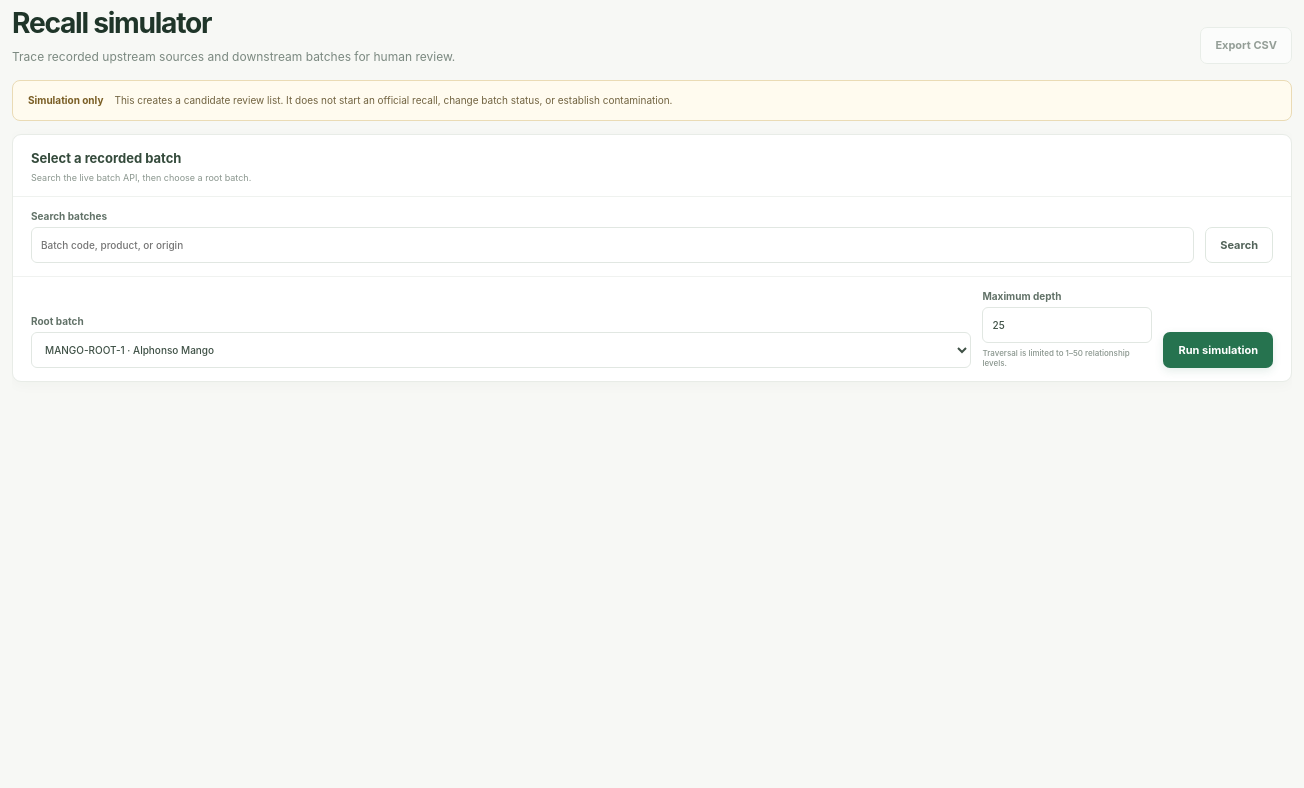
Test: RecallSimulatorDashboard › renders an isolated root with empty upstream, downstream, relationship, and finding sections
This screenshot has width=1304, height=788.
Click the button "Run simulation".
click(1218, 350)  # box [1164, 332, 1273, 368]
(page scrolled)
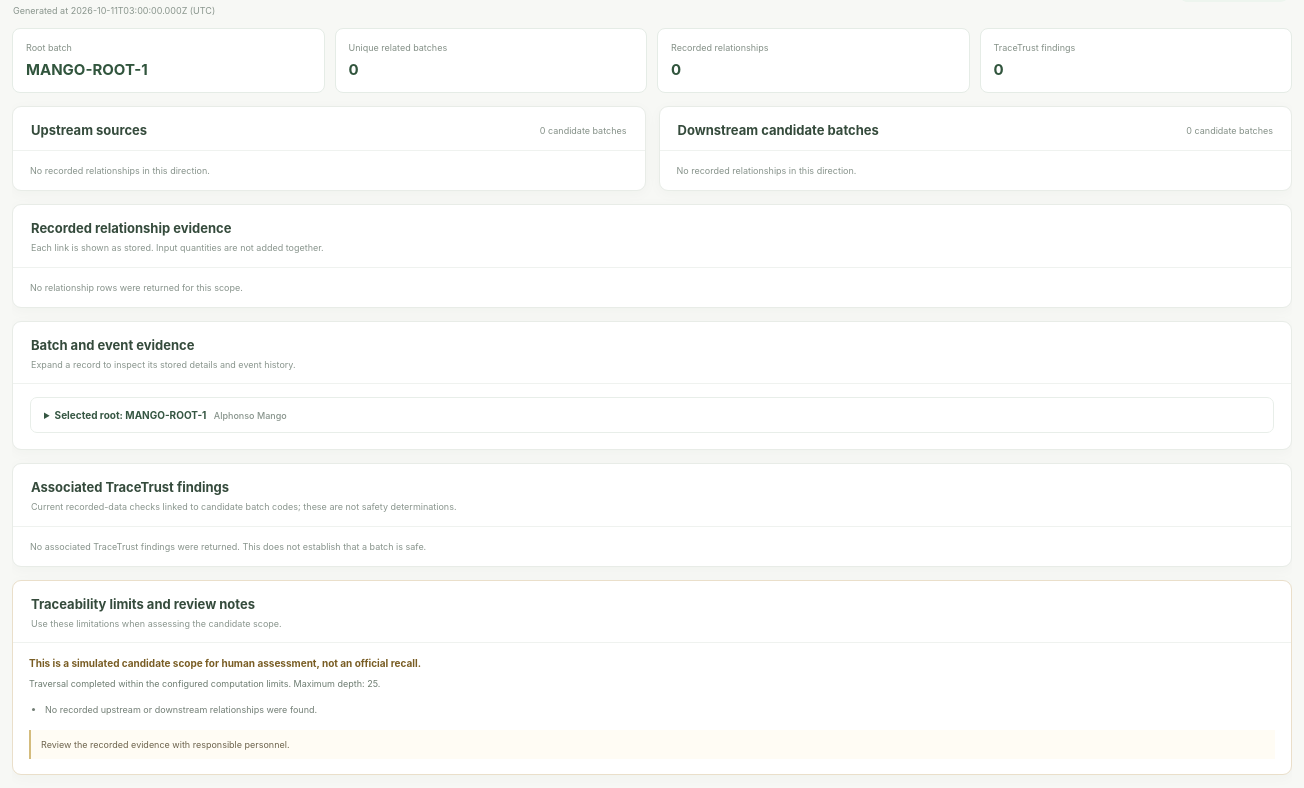
Expected: the text "No recorded relationships in this direction." is shown 2 times, [30, 165, 210, 176]; [676, 165, 856, 176]
Expected: the text "No relationship rows were returned for this scope." is shown, [30, 282, 243, 293]
Expected: the text "No associated TraceTrust findings" is shown, [30, 541, 426, 552]
